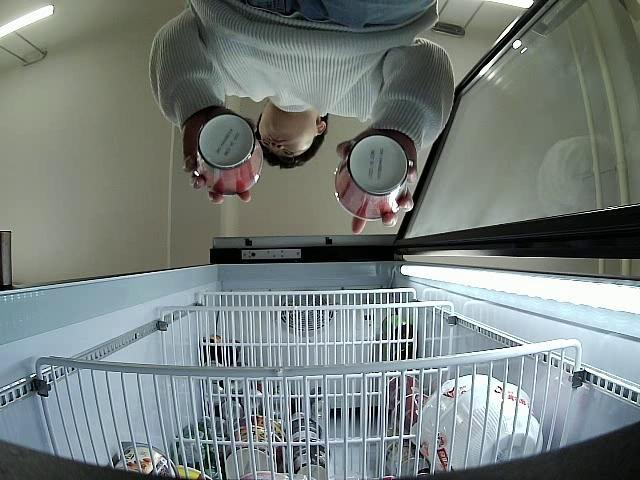02_shinRamen_S: (334, 134, 412, 222), (195, 114, 262, 195)
